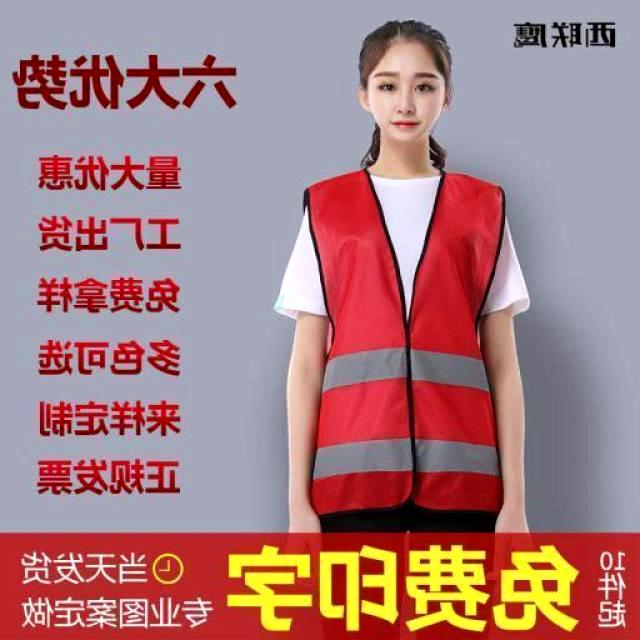no_head_wear: (360, 21, 451, 85)
person: (275, 21, 528, 531)
